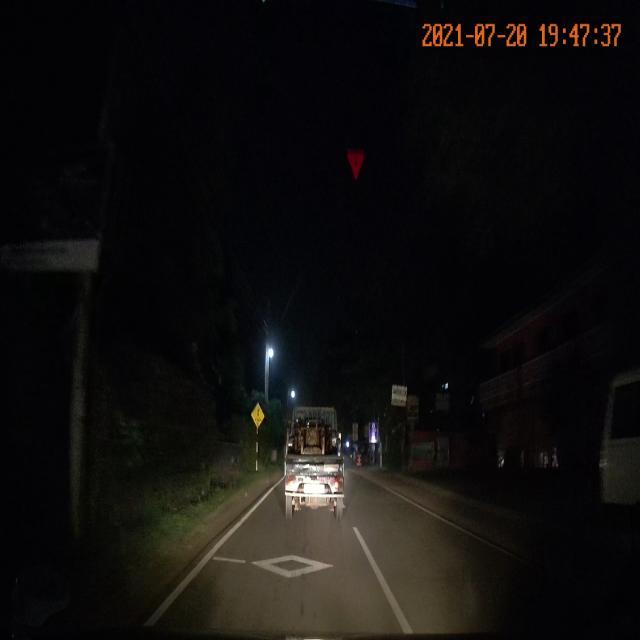diamond: (174, 540, 404, 609)
